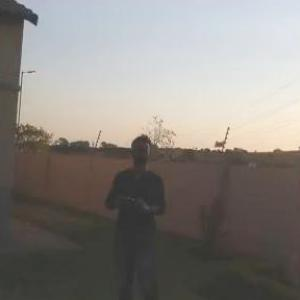follow: (102, 129, 171, 299)
